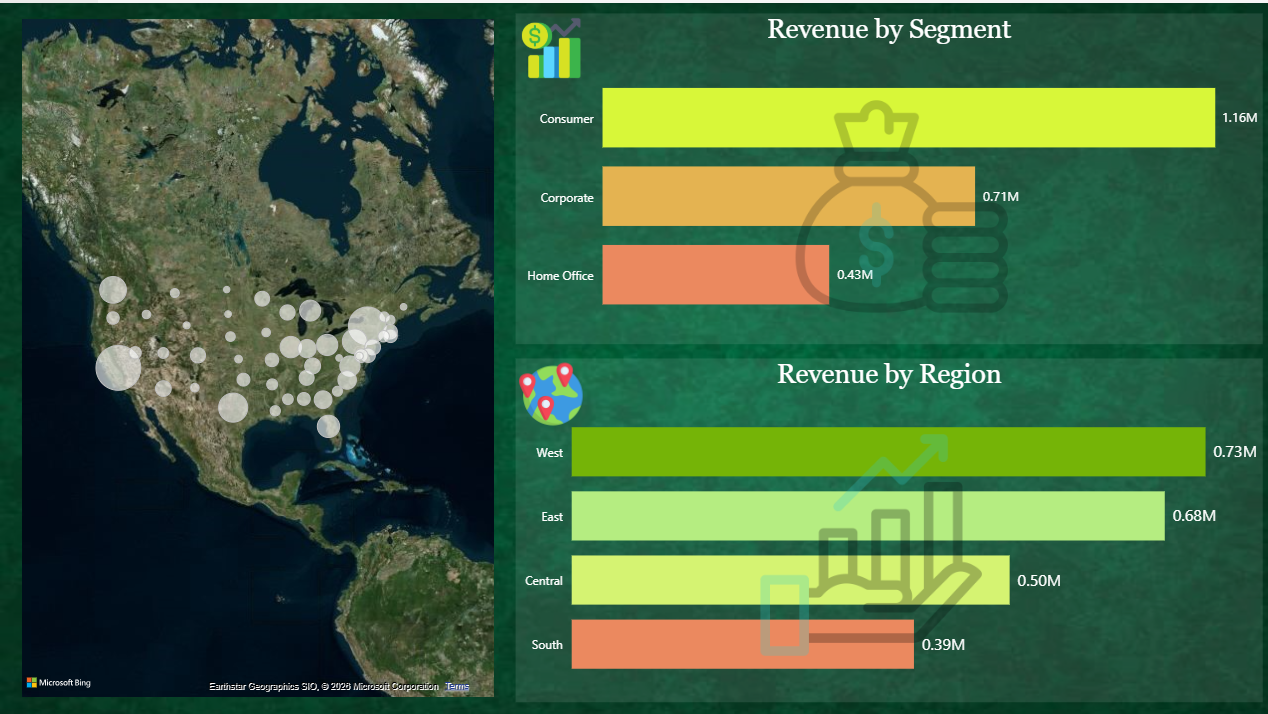

The dashboard page shown, as its layout file describes it:
{"tool":"powerbi","page":{"name":"Revenue Details","canvas":[1280,720],"ordinal":2},"visuals":[{"type":"map","fields":{"Category":["Sample - Superstore.State"],"Size":["Table.Total_Revenue"]},"box":[17,10.8,484.6,692.1],"z":0},{"type":"barChart","title":"Revenue by Segment","fields":{"Y":["Table.Total_Revenue"],"Category":["Sample - Superstore.Segment"]},"box":[518.7,10.8,750.9,332.9],"z":1},{"type":"clusteredBarChart","title":"Revenue by Region","fields":{"Category":["Sample - Superstore.Region"],"Y":["Table.Total_Revenue"]},"box":[518.7,357.6,750.9,345.3],"z":2},{"type":"image","box":[518.7,10.8,71.2,69.7],"z":3},{"type":"image","box":[764.8,422.7,222.9,244.6],"z":4},{"type":"image","box":[800.5,91.3,213.7,226],"z":5},{"type":"image","box":[520.2,360.7,68.1,63.5],"z":6}]}

Visuals, with their boxes in screenshot pixels (x1, y1, x2, y2), scaled from the page's 1280x720 canvas onto the 1268x714 screenshot:
map - Sample - Superstore.State x Table.Total_Revenue: 17/11/497/697
"Revenue by Segment" barChart: 514/11/1258/341
"Revenue by Region" clusteredBarChart: 514/355/1258/697
image: 514/11/584/80
image: 758/419/978/662
image: 793/91/1005/315
image: 515/358/583/421
